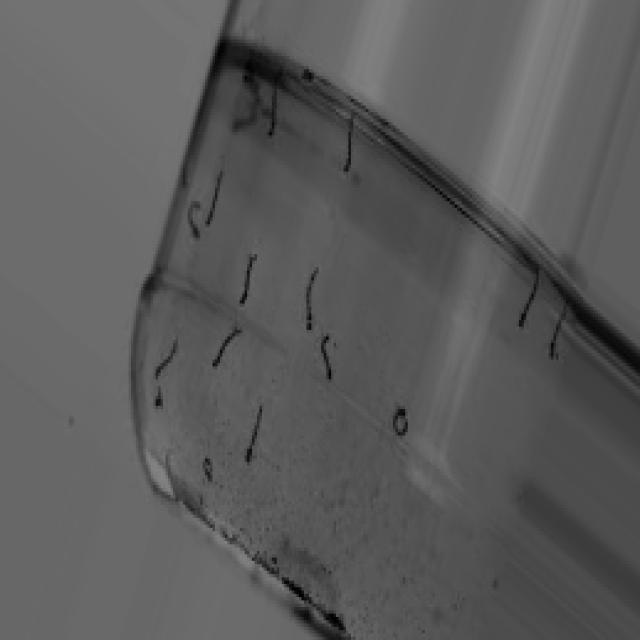larvas: (544, 295, 576, 365), (517, 264, 544, 331), (212, 326, 242, 373), (237, 250, 259, 310), (203, 170, 224, 232), (244, 405, 265, 466), (155, 338, 180, 376), (304, 267, 318, 331), (232, 108, 258, 137), (242, 72, 263, 104), (269, 73, 279, 139), (320, 334, 334, 379), (390, 404, 410, 435), (344, 116, 354, 173), (188, 201, 200, 242), (202, 457, 212, 481), (154, 386, 162, 409)
